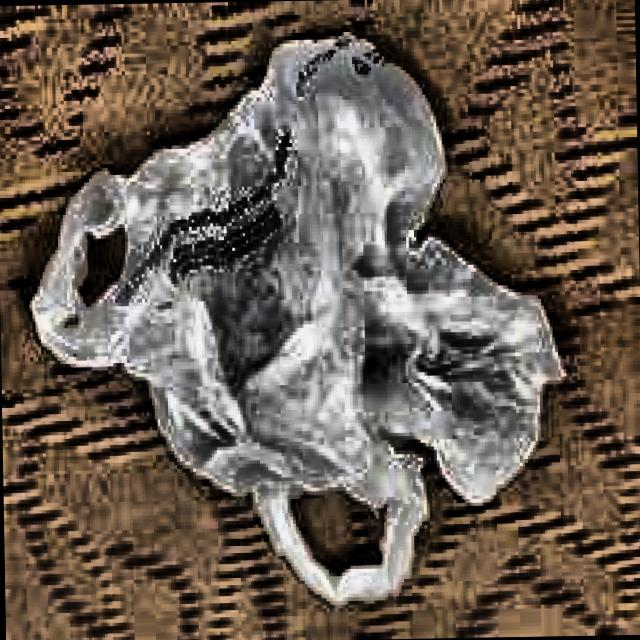plastic bag: (31, 36, 563, 603)
